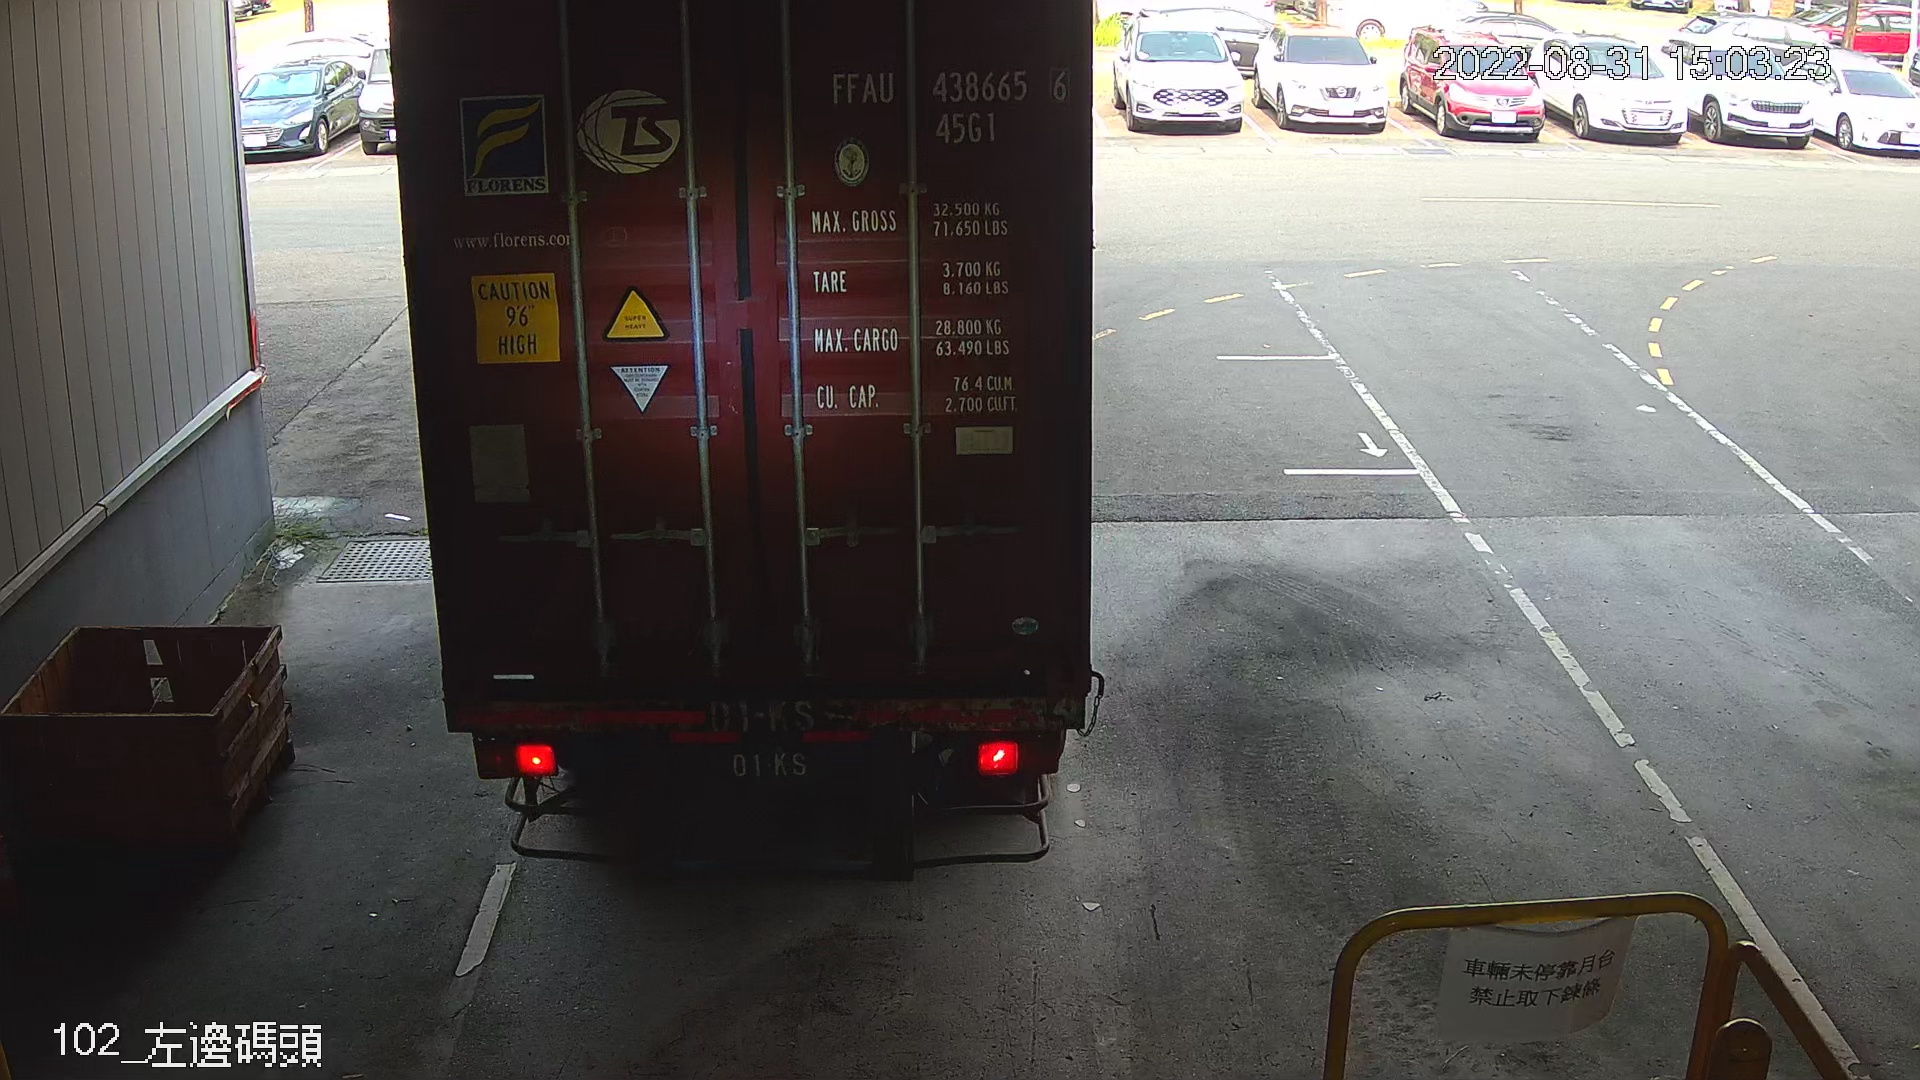container: (819, 58, 1081, 152)
